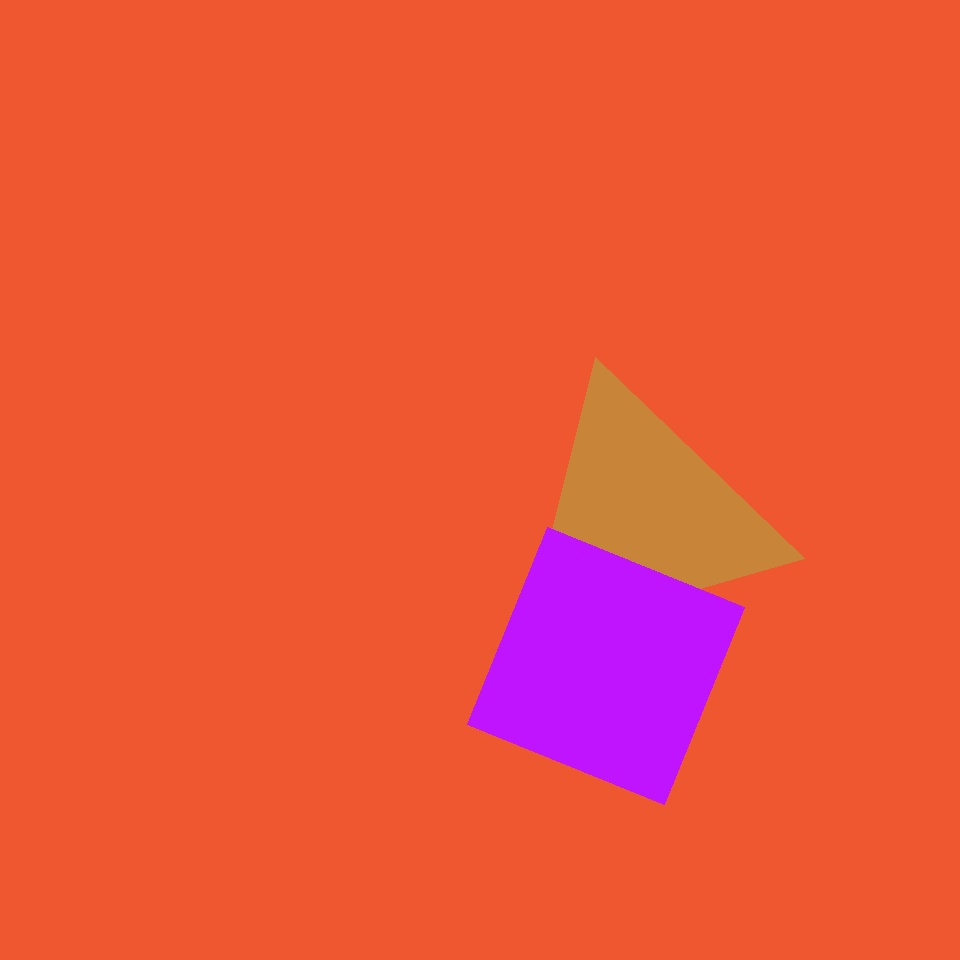circle: (502, 377, 781, 658), (598, 391, 800, 612)
square: (467, 528, 744, 804), (602, 116, 846, 360)
